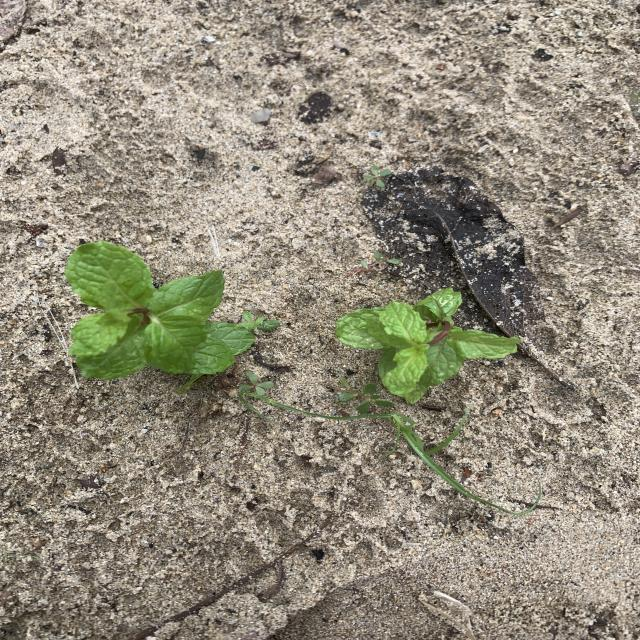crop: (65, 241, 254, 392), (335, 288, 521, 403)
weed: (360, 415, 542, 516), (429, 409, 469, 455), (338, 383, 392, 416), (351, 252, 401, 276), (238, 370, 274, 397), (363, 165, 392, 188), (255, 394, 294, 410), (237, 311, 264, 331), (300, 411, 333, 419), (339, 377, 350, 390)
